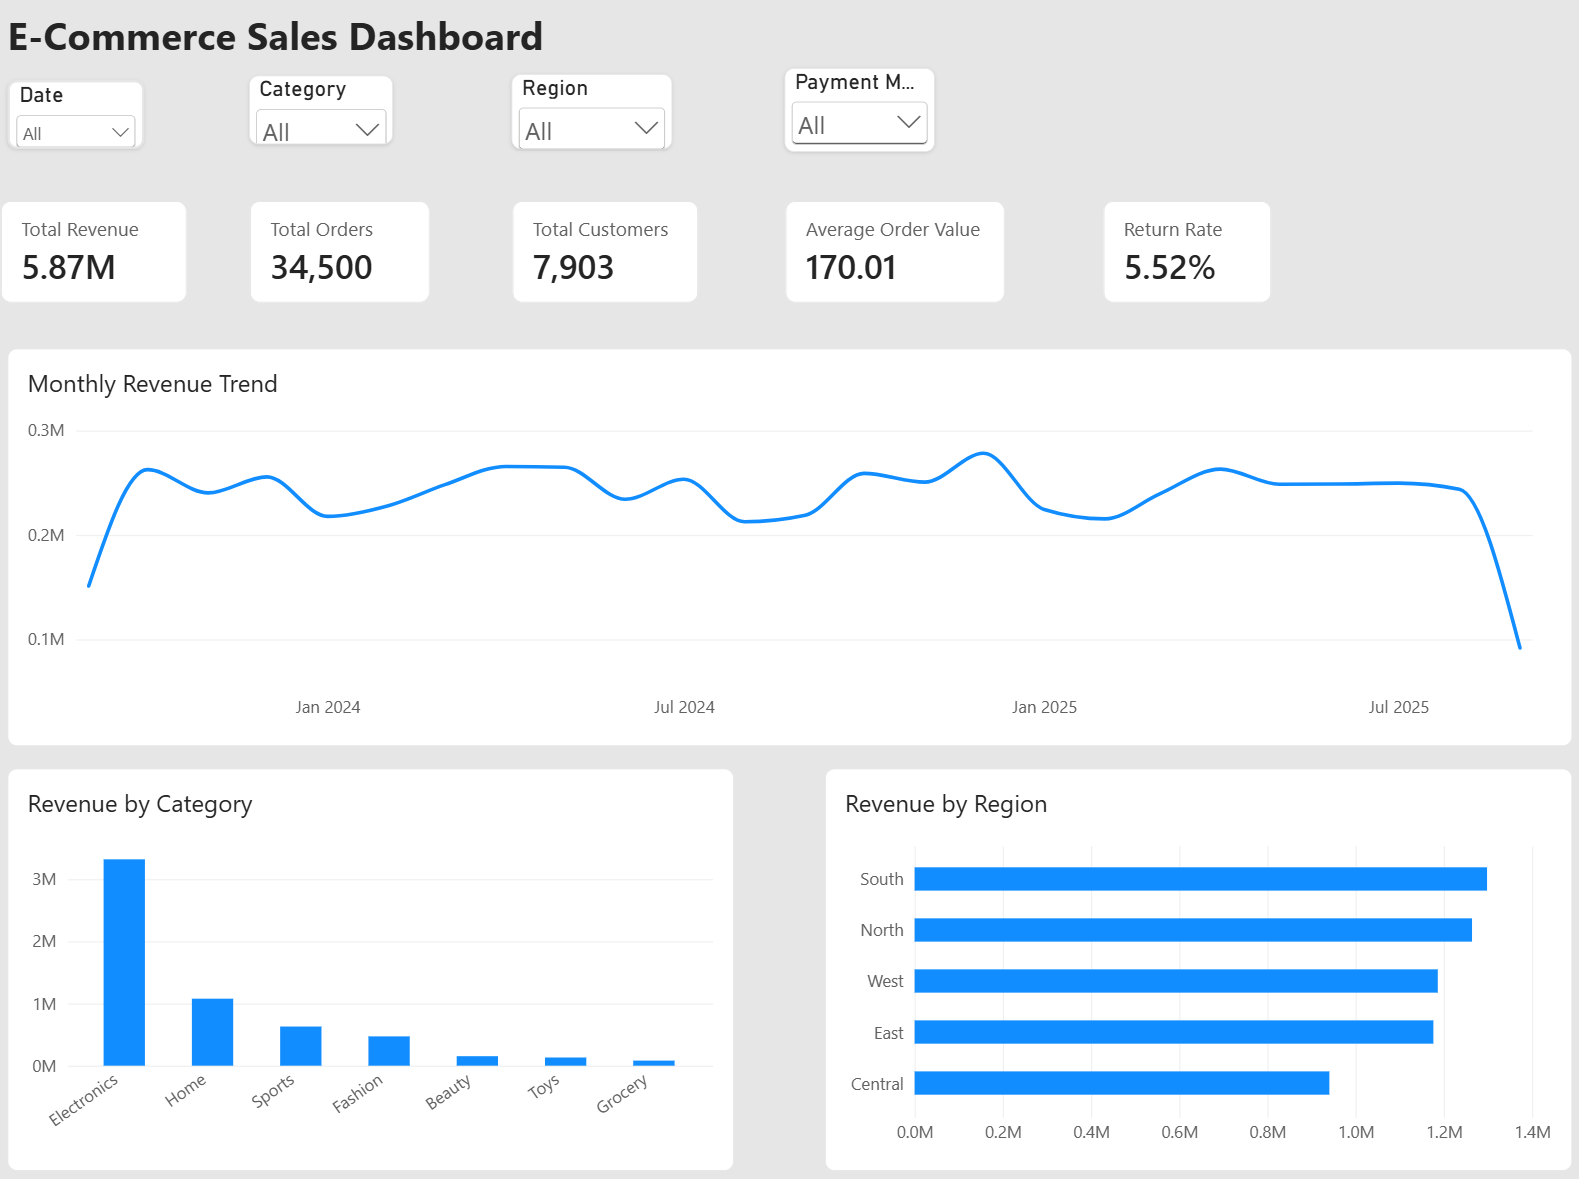

What the dashboard file says about the page in this screenshot:
{"tool":"powerbi","page":{"name":"Executive Overview","canvas":[1920,1080],"ordinal":0},"visuals":[{"type":"cardVisual","fields":{"Data":["ecommerce_sales.total_revenue"]},"box":[264.2,231.2,157.5,87.5],"z":0},{"type":"cardVisual","fields":{"Data":["ecommerce_sales.total_orders"]},"box":[521.4,217.3,152.5,87.5],"z":1000},{"type":"cardVisual","fields":{"Data":["ecommerce_sales.total_customers"]},"box":[808.2,231.2,157.5,87.5],"z":2000},{"type":"cardVisual","fields":{"Data":["ecommerce_sales.average_order_value"]},"box":[1081.1,217.3,185,87.5],"z":3000},{"type":"lineChart","title":"Monthly Revenue Trend","fields":{"Category":["ecommerce_sales.year_month"],"Y":["Sum(ecommerce_sales.total_amount)"]},"box":[267.7,332,1385.3,332],"z":4000},{"type":"clusteredColumnChart","title":"Revenue by Category","fields":{"Category":["ecommerce_sales.category"],"Y":["Sum(ecommerce_sales.total_amount)"]},"box":[264.2,707.4,604.9,352.8],"z":5000},{"type":"barChart","title":"Revenue by Region","fields":{"Category":["ecommerce_sales.region"],"Y":["Sum(ecommerce_sales.total_amount)"]},"box":[1015,707.4,651.8,352.8],"z":6000},{"type":"cardVisual","fields":{"Data":["ecommerce_sales.return_rate"]},"box":[1385.3,217.3,142.5,86.9],"z":7000},{"type":"textbox","title":"E-Commerce Sales Dashboard","box":[264.2,27.8,486.2,58.8],"z":8000},{"type":"slicer","fields":{"Values":["ecommerce_sales.order_date"]},"box":[264.2,119.9,113.8,57.5],"z":9000},{"type":"slicer","fields":{"Values":["ecommerce_sales.category"]},"box":[521.4,114.7,120,57.5],"z":10000},{"type":"slicer","fields":{"Values":["ecommerce_sales.region"]},"box":[808.2,107.8,133.8,62.5],"z":11000},{"type":"slicer","fields":{"Values":["ecommerce_sales.payment_method"]},"box":[1081.1,107.8,158.2,69.5],"z":12000}]}

Visuals, with their boxes on the page's 1920x1080 design canvas (x1, y1, x2, y2). These are canvas units, not pixel positions in the 1579x1179 screenshot, which may show the page scaled, cropped or inside an application window:
cardVisual - ecommerce_sales.total_revenue: pyautogui.locateOnScreen(264, 231, 422, 319)
cardVisual - ecommerce_sales.total_orders: pyautogui.locateOnScreen(521, 217, 674, 305)
cardVisual - ecommerce_sales.total_customers: pyautogui.locateOnScreen(808, 231, 966, 319)
cardVisual - ecommerce_sales.average_order_value: pyautogui.locateOnScreen(1081, 217, 1266, 305)
"Monthly Revenue Trend" lineChart: pyautogui.locateOnScreen(268, 332, 1653, 664)
"Revenue by Category" clusteredColumnChart: pyautogui.locateOnScreen(264, 707, 869, 1060)
"Revenue by Region" barChart: pyautogui.locateOnScreen(1015, 707, 1667, 1060)
cardVisual - ecommerce_sales.return_rate: pyautogui.locateOnScreen(1385, 217, 1528, 304)
"E-Commerce Sales Dashboard" textbox: pyautogui.locateOnScreen(264, 28, 750, 87)
slicer - ecommerce_sales.order_date: pyautogui.locateOnScreen(264, 120, 378, 177)
slicer - ecommerce_sales.category: pyautogui.locateOnScreen(521, 115, 641, 172)
slicer - ecommerce_sales.region: pyautogui.locateOnScreen(808, 108, 942, 170)
slicer - ecommerce_sales.payment_method: pyautogui.locateOnScreen(1081, 108, 1239, 177)
